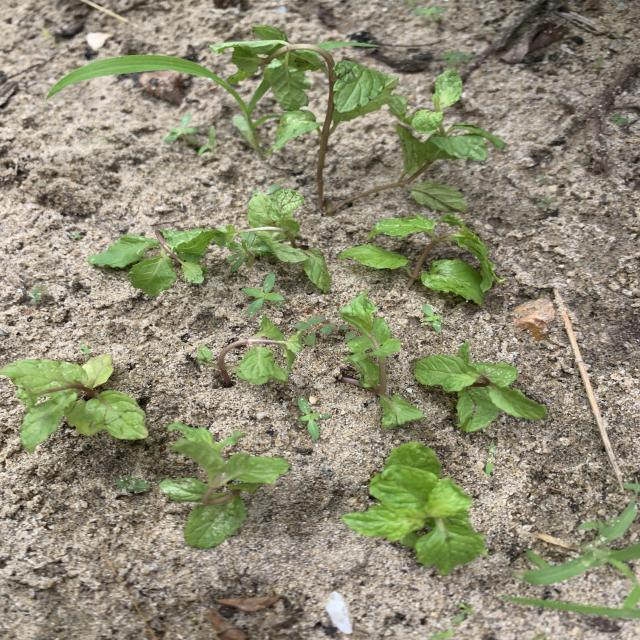crop: (210, 26, 398, 210), (374, 70, 503, 216), (342, 442, 486, 572), (161, 425, 289, 547), (340, 215, 502, 303), (1, 356, 146, 450), (214, 189, 331, 293), (414, 342, 546, 430), (340, 292, 423, 426), (88, 229, 217, 296), (197, 316, 305, 385)
weed: (48, 55, 271, 158), (504, 484, 640, 619), (228, 233, 272, 272), (244, 274, 283, 314), (299, 398, 329, 439), (296, 316, 335, 344), (165, 115, 197, 142), (422, 304, 443, 331), (413, 6, 444, 23), (198, 127, 215, 155), (117, 477, 149, 491), (441, 52, 474, 64), (484, 442, 495, 476), (455, 602, 472, 623), (31, 286, 47, 301), (538, 197, 556, 210), (613, 114, 627, 123), (80, 345, 90, 354), (72, 232, 80, 238)
